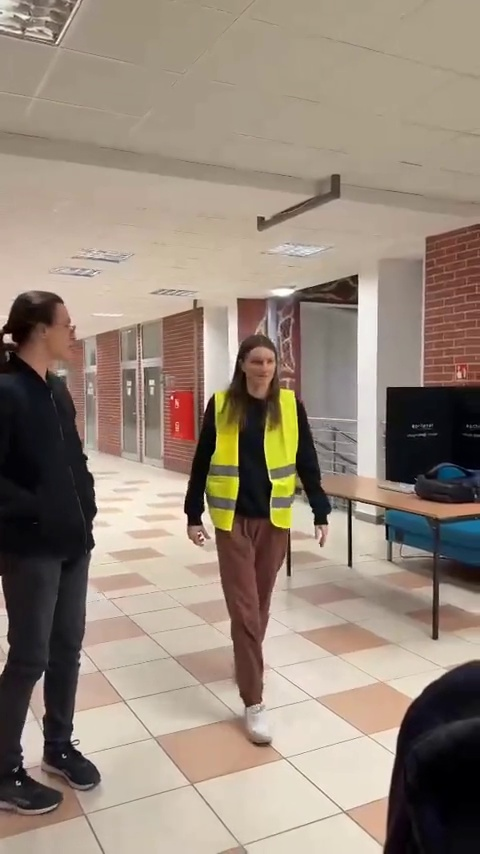no vest: (0, 279, 108, 822)
vest: (184, 338, 332, 748)
